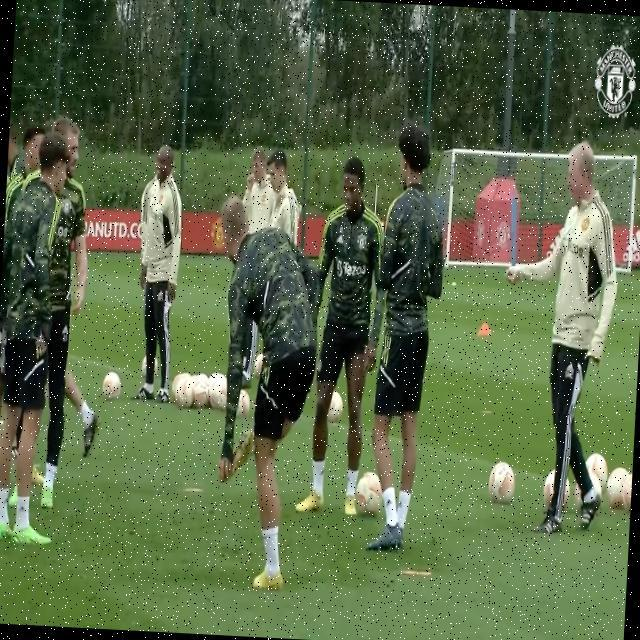Adidas: (621, 229, 640, 266), (566, 361, 574, 379), (337, 233, 346, 245)
